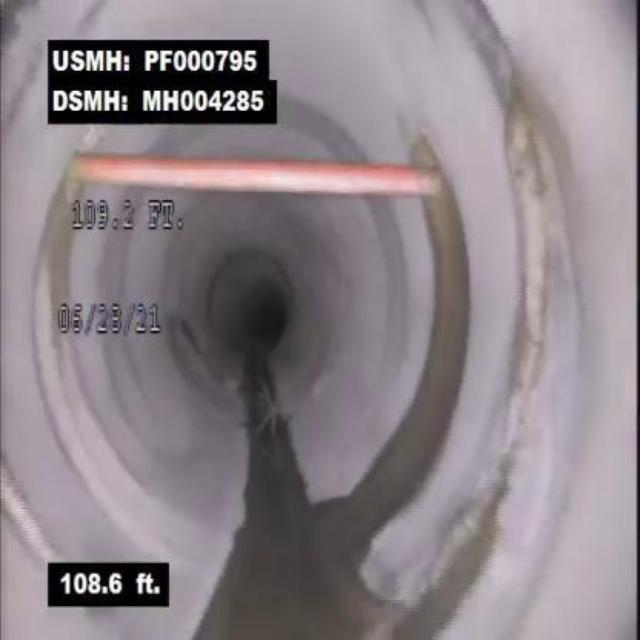Joint offset: (483, 55, 629, 571)
Utility intrusion: (57, 135, 485, 202)
